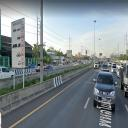speed_limit_100: (20, 32, 24, 42)
speed_limit_120: (20, 23, 24, 33)
speed_limit_80: (21, 50, 25, 59)
speed_limit_90: (20, 40, 24, 50)
